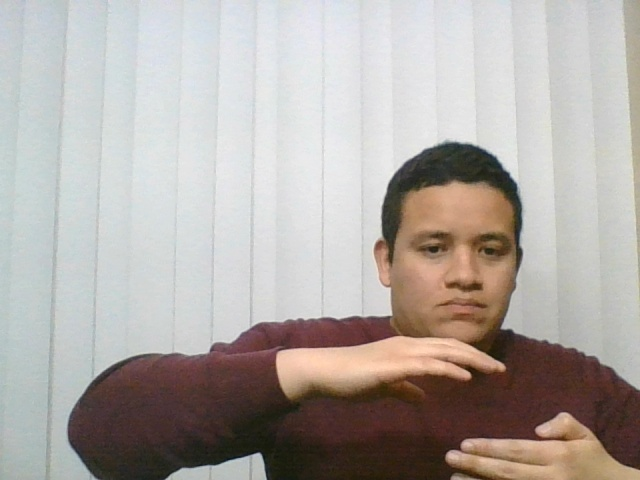To Study: (227, 309, 621, 478)
